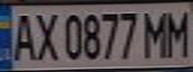0: (60, 10, 84, 61)
7: (118, 8, 142, 60), (100, 9, 124, 60)
8: (81, 9, 103, 61)
A: (6, 10, 39, 62)
M: (139, 7, 175, 60), (163, 6, 193, 58)
X: (30, 9, 60, 62)
